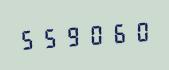five: (17, 24, 38, 53), (39, 23, 60, 51)
nine: (62, 21, 83, 50)
six: (106, 18, 127, 46)
zero: (128, 16, 149, 45), (84, 20, 105, 48)
